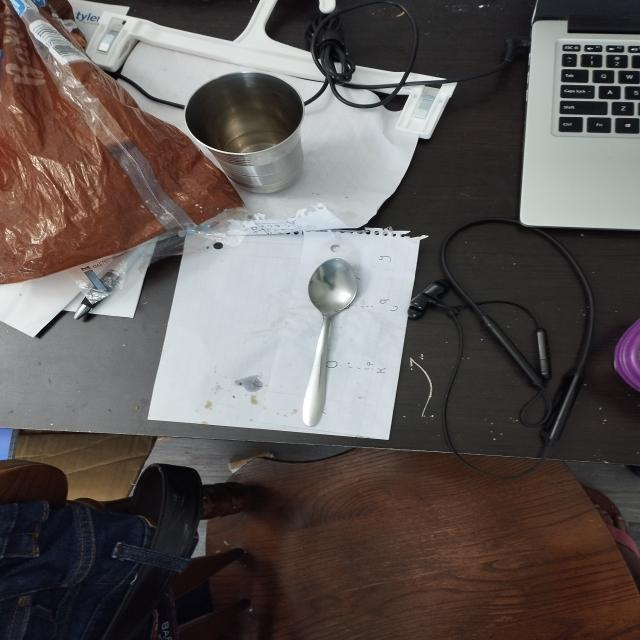Spoon: (288, 248, 362, 446)
